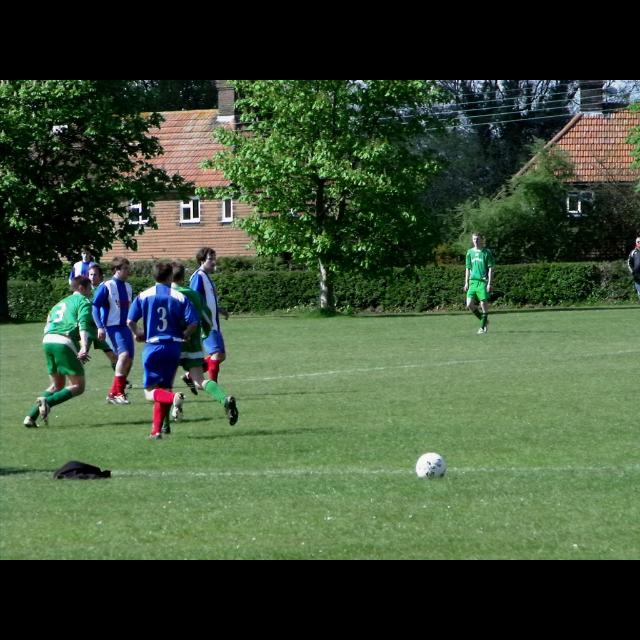Football: (414, 452, 446, 478)
